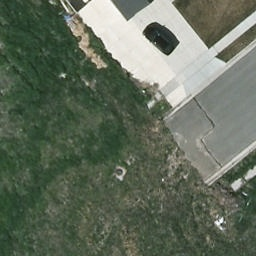car: (142, 26, 176, 58)
